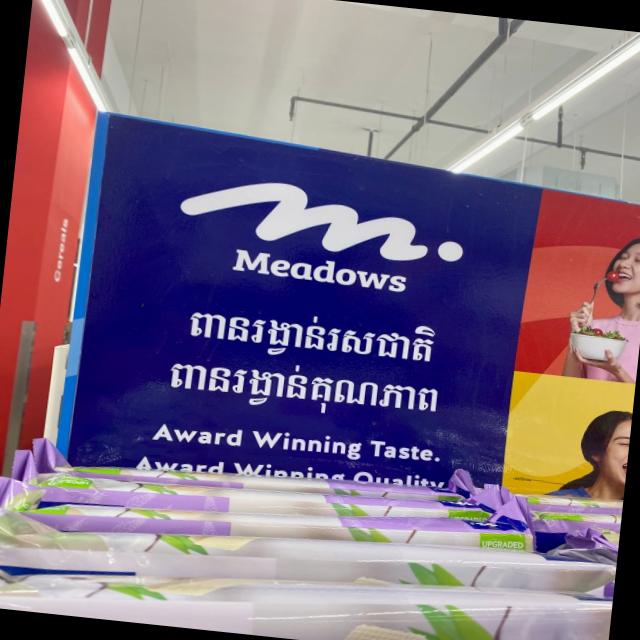Yolov11_80vkh: (160, 350, 453, 429), (181, 293, 442, 373)
